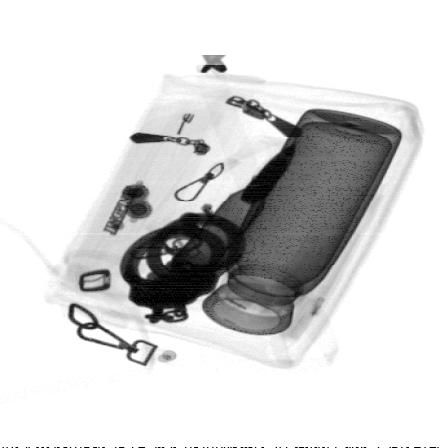Bullet: (162, 145, 295, 291)
HandCuffs: (119, 211, 247, 324)
